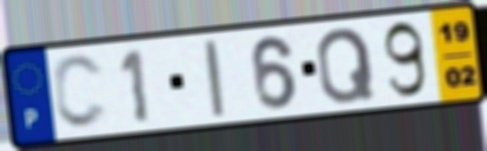1: (117, 47, 151, 125)
6: (250, 32, 299, 112)
9: (380, 19, 429, 100)
C: (49, 52, 111, 132)
I: (200, 36, 229, 120)
Q: (314, 25, 378, 107)
